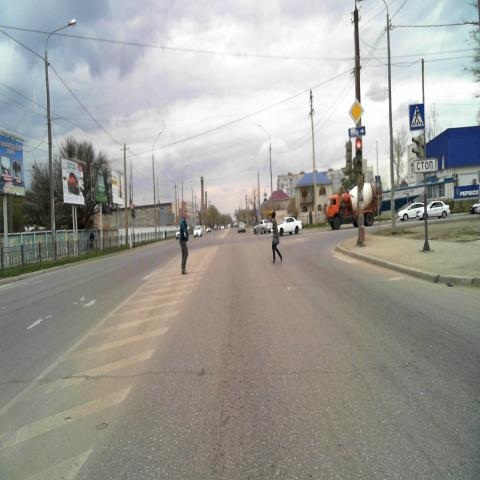6_15_2: (348, 126, 366, 139)
